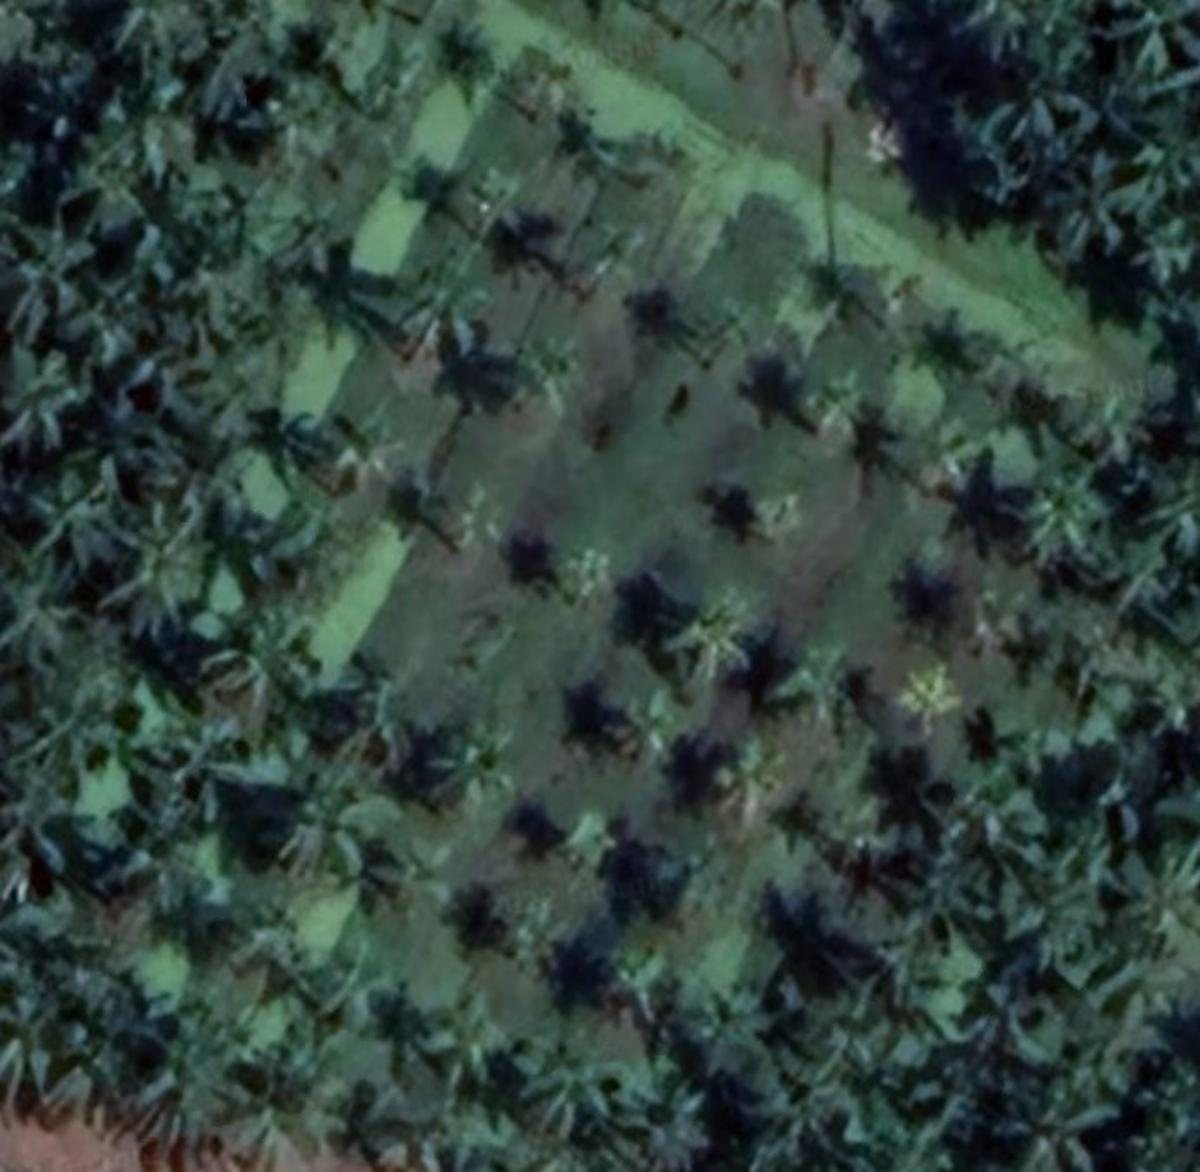coconut: (105, 519, 218, 626), (1008, 1069, 1128, 1168), (468, 885, 583, 986), (665, 588, 764, 701), (270, 770, 376, 875), (145, 717, 262, 810), (1047, 151, 1142, 262), (778, 988, 897, 1073), (416, 720, 519, 817), (175, 611, 305, 684), (27, 477, 131, 566), (395, 262, 501, 348), (1019, 465, 1107, 567), (425, 991, 519, 1083), (545, 1050, 646, 1136), (210, 904, 319, 982), (301, 942, 399, 1026), (896, 420, 982, 515), (608, 687, 692, 783), (335, 420, 430, 501), (802, 361, 882, 454), (604, 951, 691, 1029), (535, 809, 619, 888), (706, 737, 784, 821), (955, 588, 1036, 668), (439, 164, 515, 234), (1014, 368, 1087, 439), (512, 336, 583, 406), (442, 486, 514, 555), (748, 490, 819, 559), (583, 228, 654, 296), (550, 543, 621, 611), (774, 649, 843, 717), (946, 328, 1015, 395), (896, 663, 960, 736), (394, 843, 454, 908)
